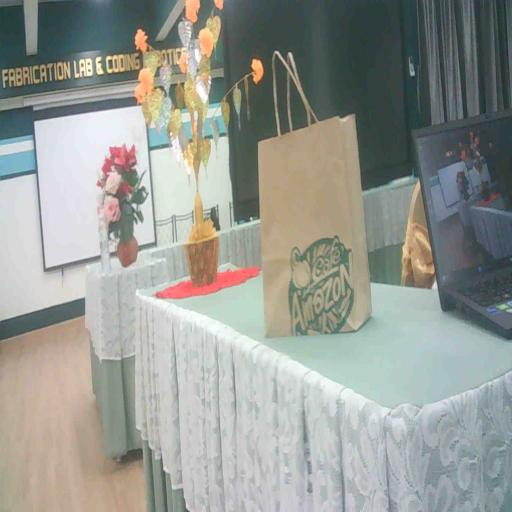bag: (249, 111, 380, 344)
